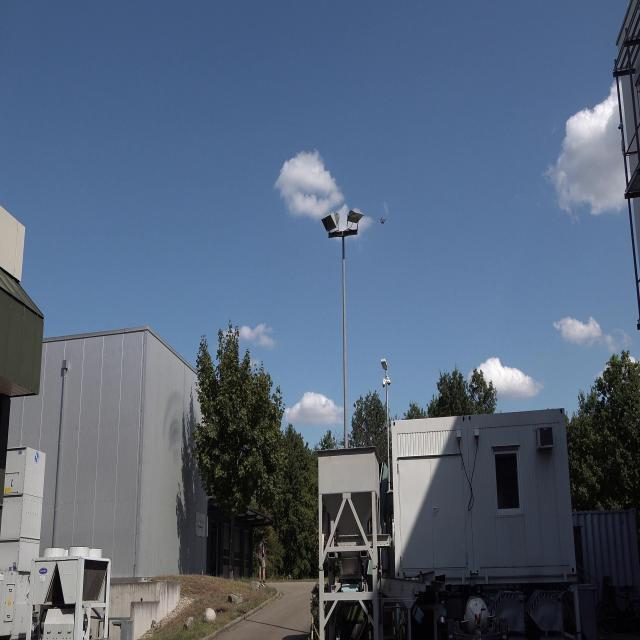drone: (376, 212, 388, 231)
